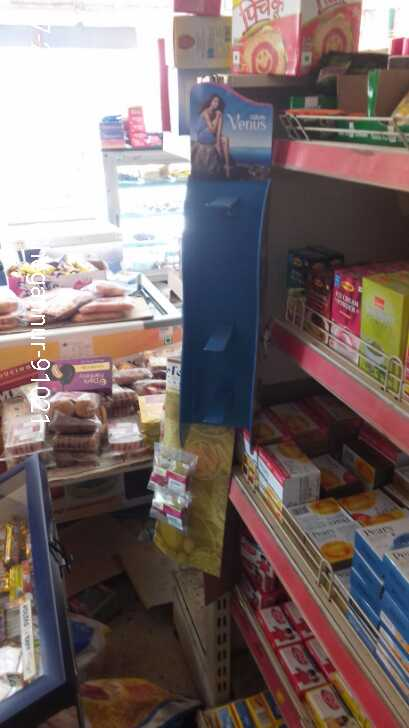reject: (150, 288, 330, 464)
